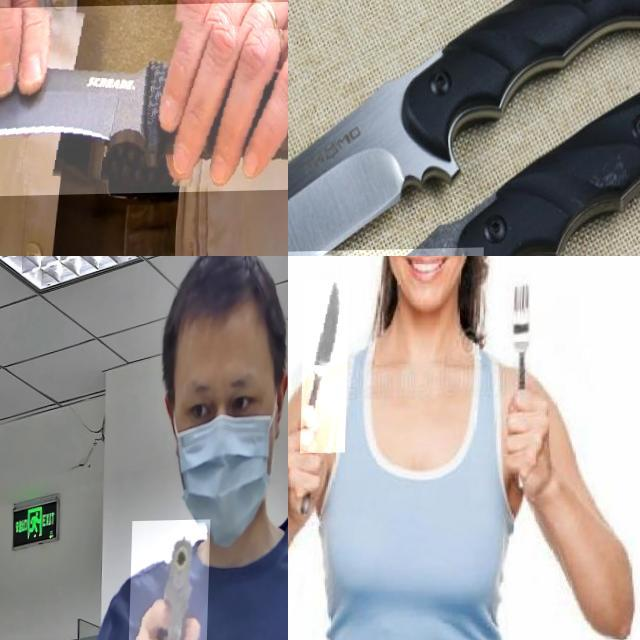-: (0, 2, 288, 199), (288, 82, 442, 256), (303, 280, 352, 454)
gun-knife-thesis - v11 Yolov5 augmented: (129, 520, 213, 640)
